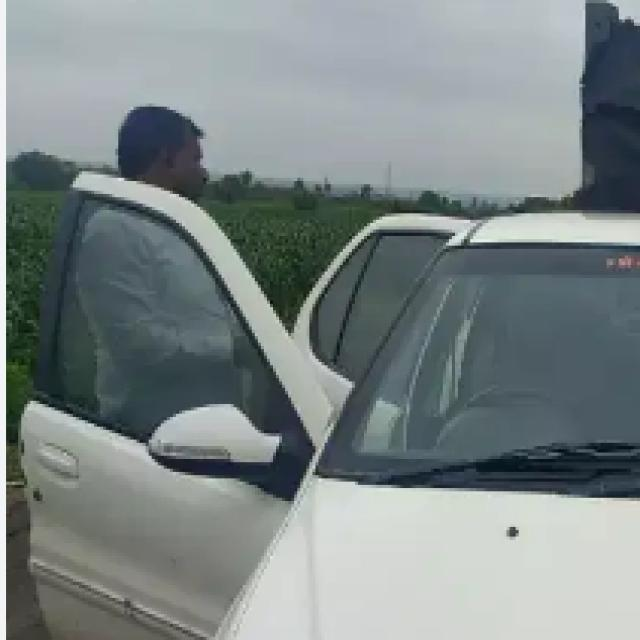car: (258, 178, 640, 640)
